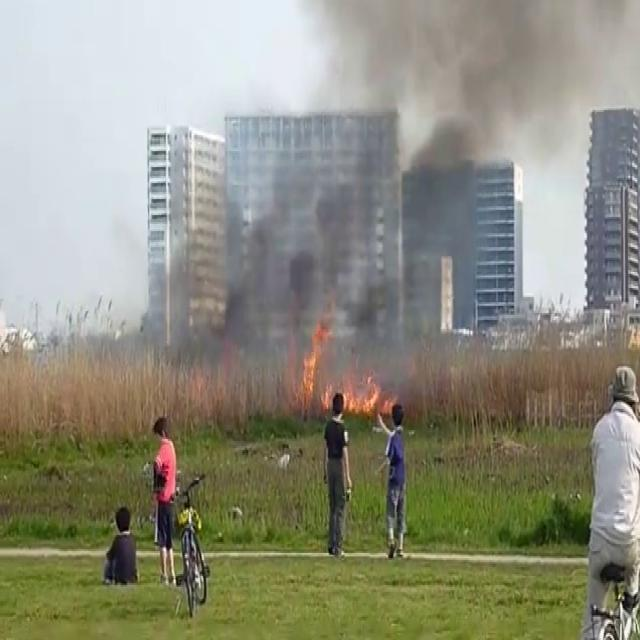Fire: (290, 308, 397, 420)
Smoke: (214, 0, 607, 380)
